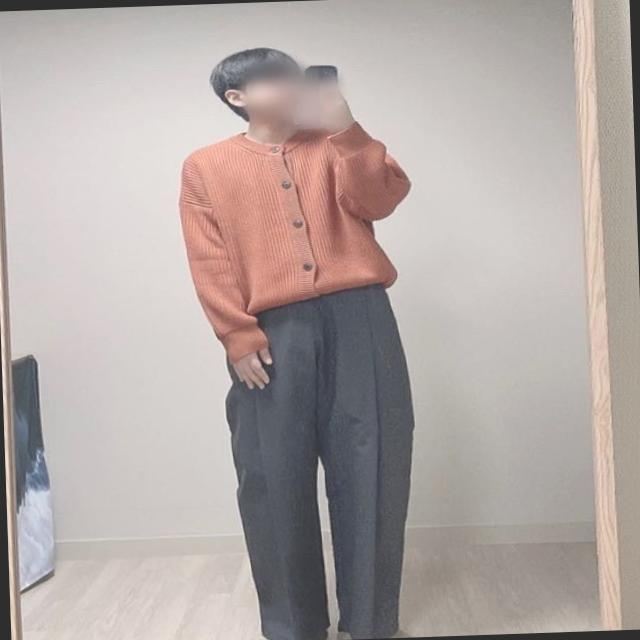cardigan: (172, 114, 421, 369)
slacks: (223, 286, 422, 640)
